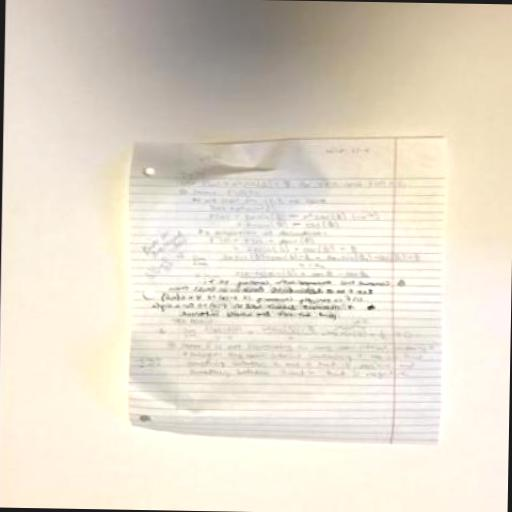paper: (126, 134, 449, 448)
